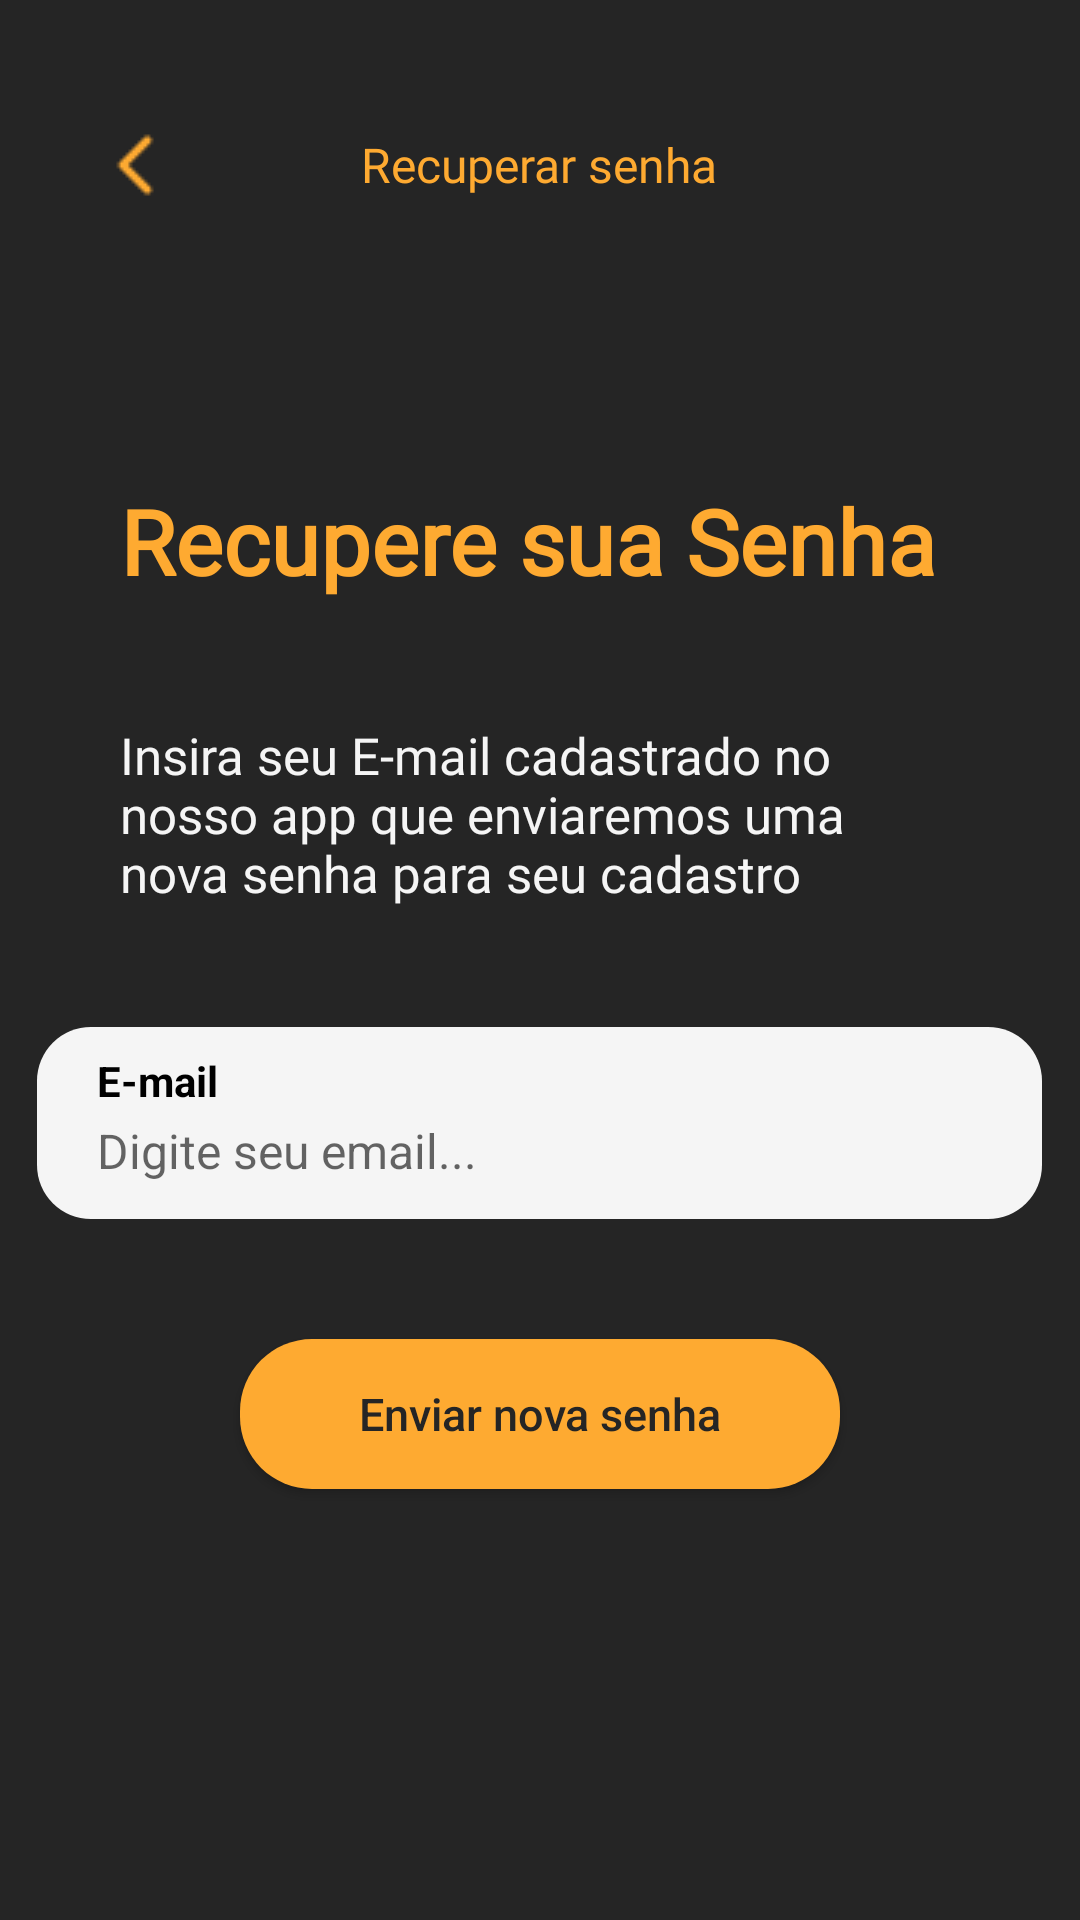

Icons on this 1080×1920 Android screen, each with its box as [x1, y1, x2, y2]:
backicon: [117, 134, 154, 196]
